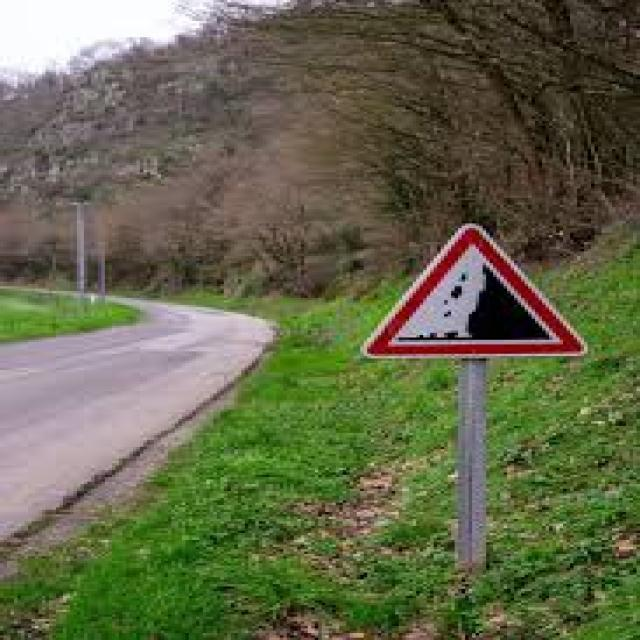falling rocks: (357, 228, 592, 363)
